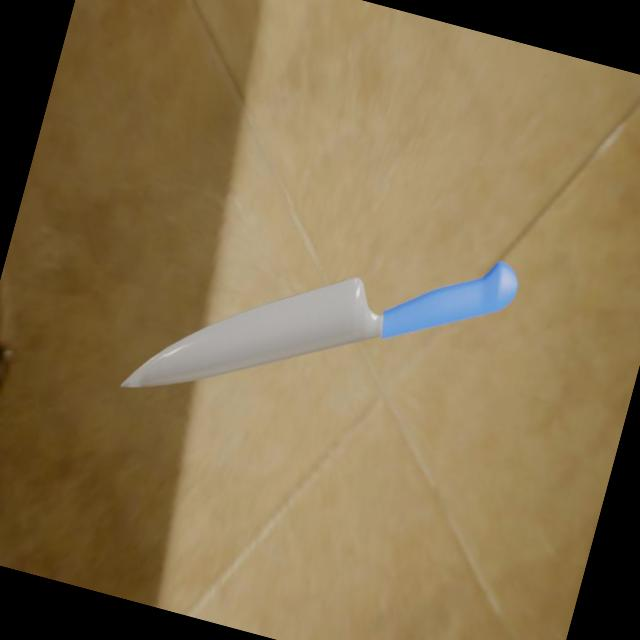knife: (373, 235, 522, 369)
